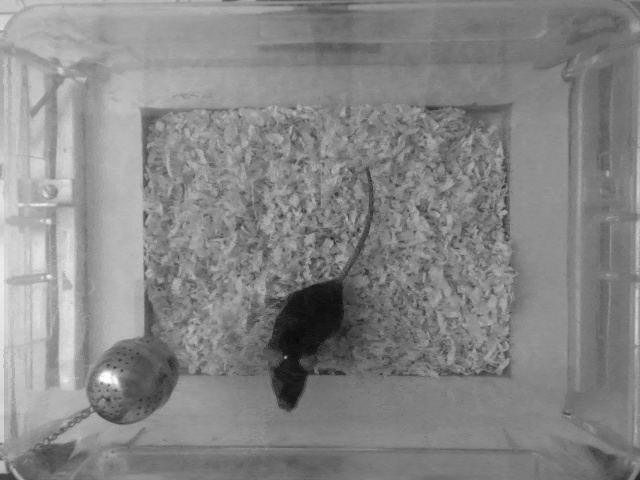mice: (259, 166, 376, 416)
